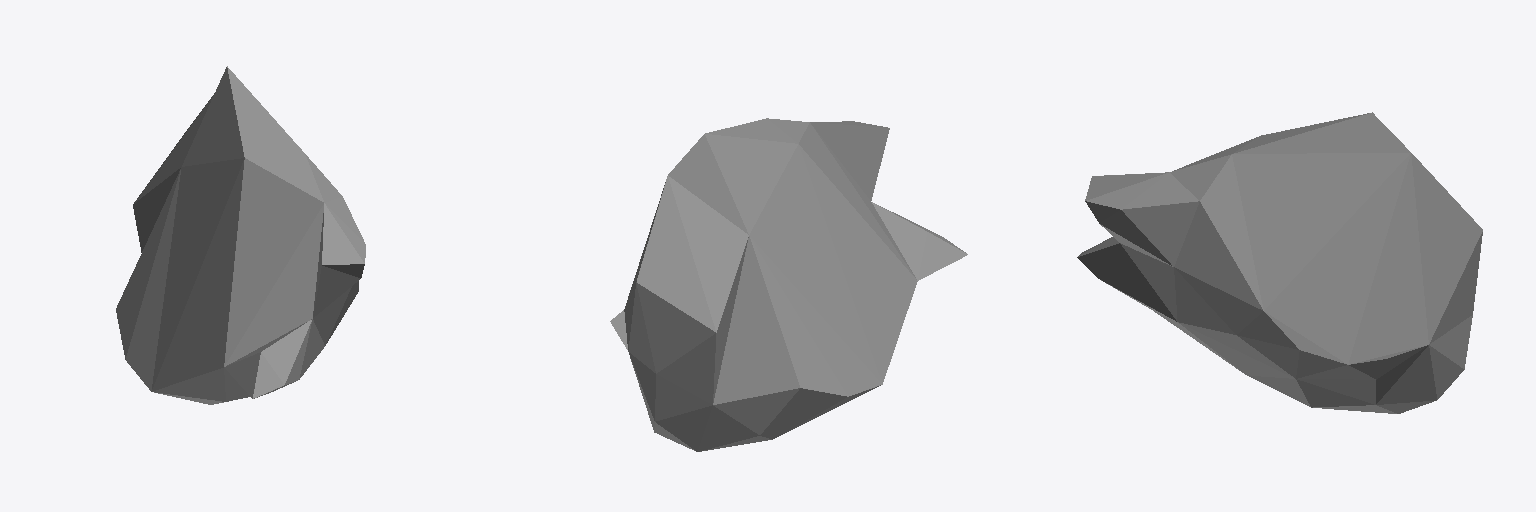
The model's file is Model_10725_LH__Rubrospinal_tract_(rs).obj.
3 renders of one model, left to right at view 1: azimuth 30°, elevation 25°; view 2: azimuth 150°, elevation 25°; view 3: azimuth 270°, elevation 25°, orthographic.
Bounding box in the file's own units: 0.2212 × 0.293 × 0.3551.